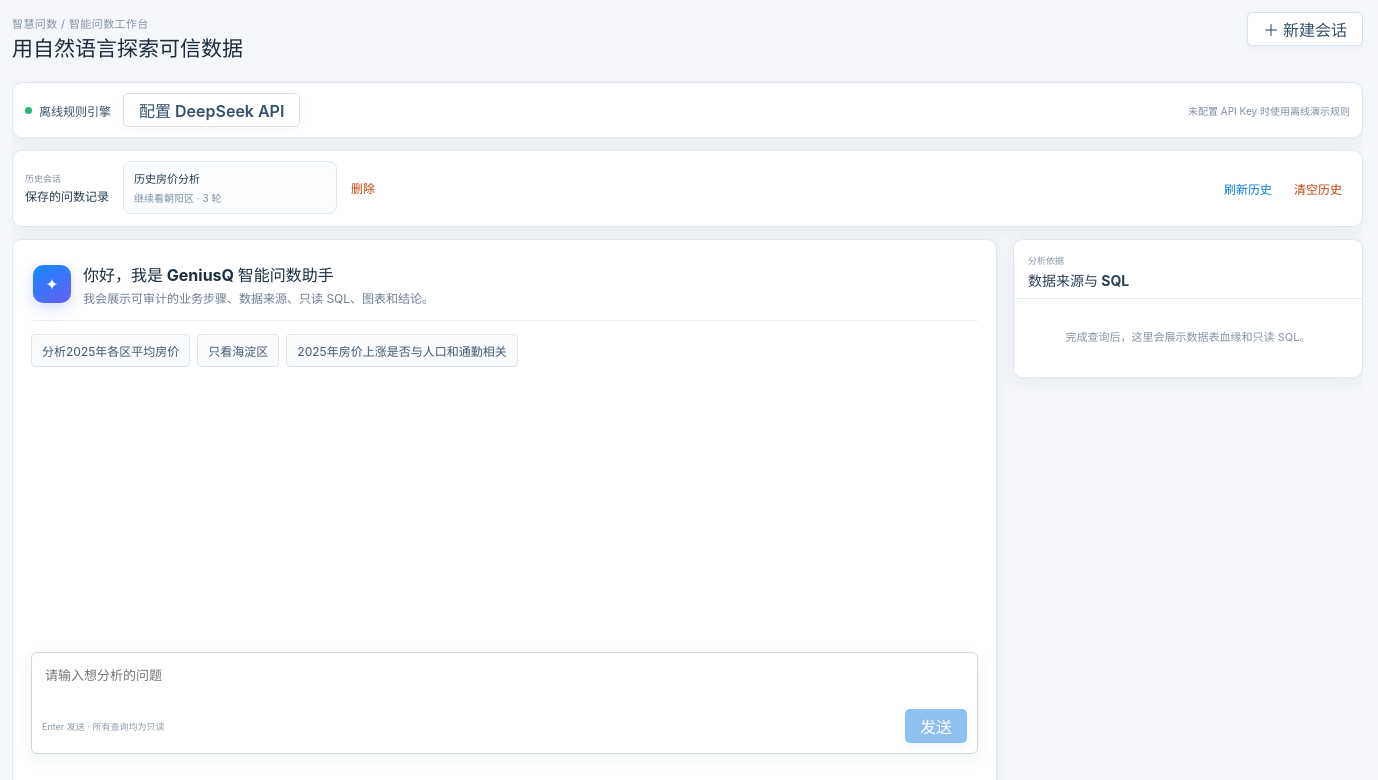
Test: clears all saved conversations from the history panel
Check: the button with aria-label "打开会话：历史房价分析" is shown, box [123,161,337,214]
Step 1. Click the button "清空历史" → [1318, 188], box [1286,174,1350,203]
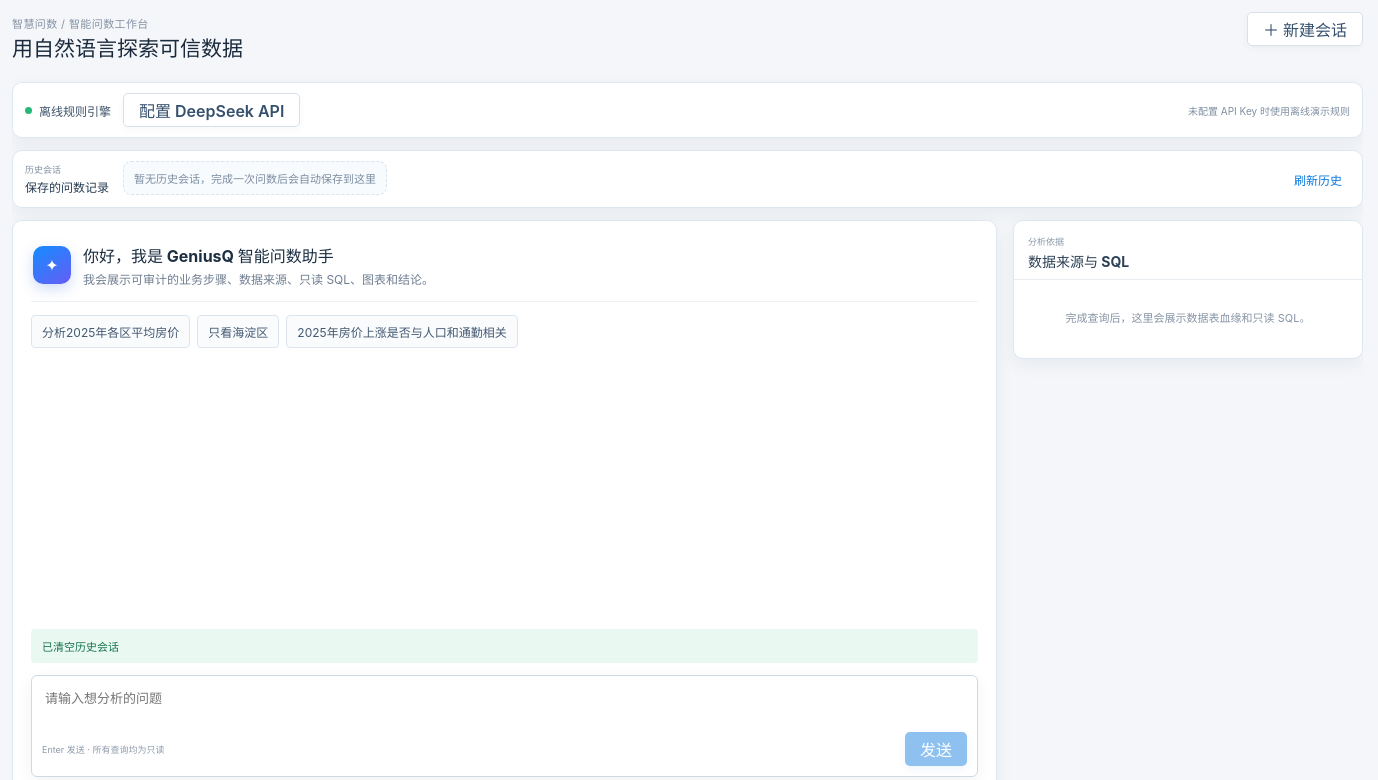
Check: the text "已清空历史会话" is shown, box [31,629,978,663]
Check: the text "暂无历史会话" is shown, box [134,172,376,186]
